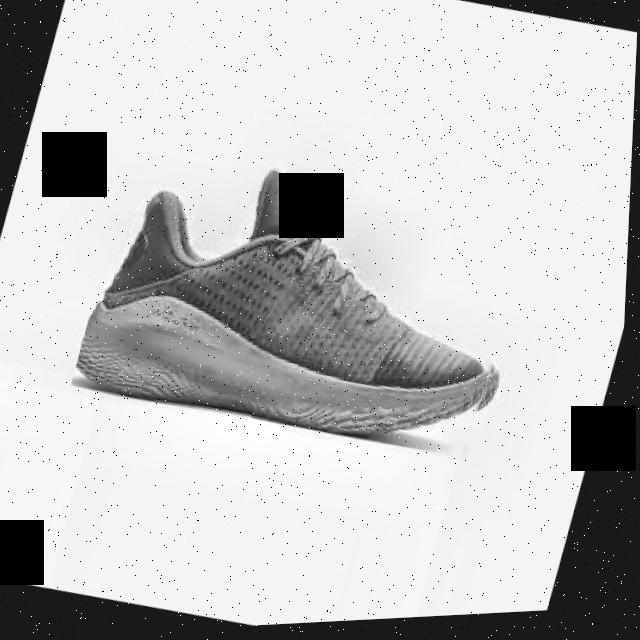shoe: (70, 128, 549, 482)
